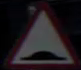Speed Breaker ahead: (11, 13, 71, 65)
